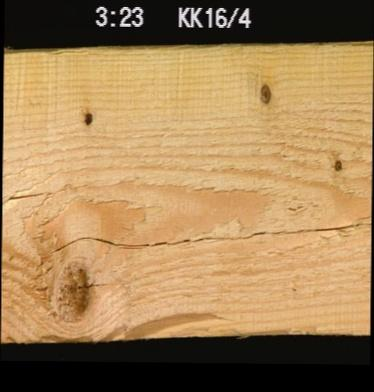small_knot: (330, 155, 342, 172)
sound_knot: (45, 254, 92, 325), (257, 80, 271, 104)
split: (36, 214, 370, 257), (1, 186, 51, 206)
wave: (94, 299, 322, 337)
